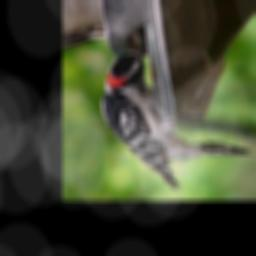Woodpecker: (98, 43, 256, 195)
